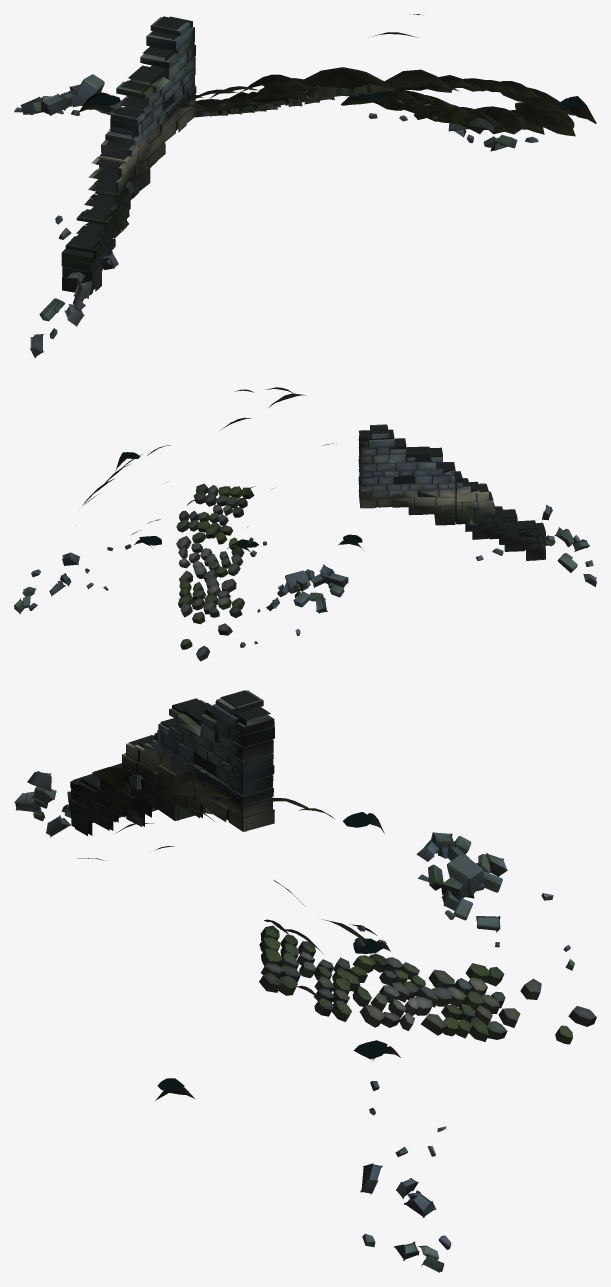
The model's file is sunken_bastion_entrance_ruins.glb.
3 views of the same model, one above another, from view 1: azimuth 30°, elevation 25°; view 2: azimuth 150°, elevation 25°; view 3: azimuth 270°, elevation 25° (orthographic). The views are drawn at different scales.
Parts seen in each view (by area): view 1: Entrance_Ruins; view 2: Entrance_Ruins; view 3: Entrance_Ruins.
Boxes of the visible parts, x1,y1,x2,y2 form: Entrance_Ruins: [14, 14, 596, 358]; Entrance_Ruins: [14, 387, 596, 661]; Entrance_Ruins: [14, 690, 596, 1272].
Size of the model in its own units: 35.31 by 15.29 by 23.73.
